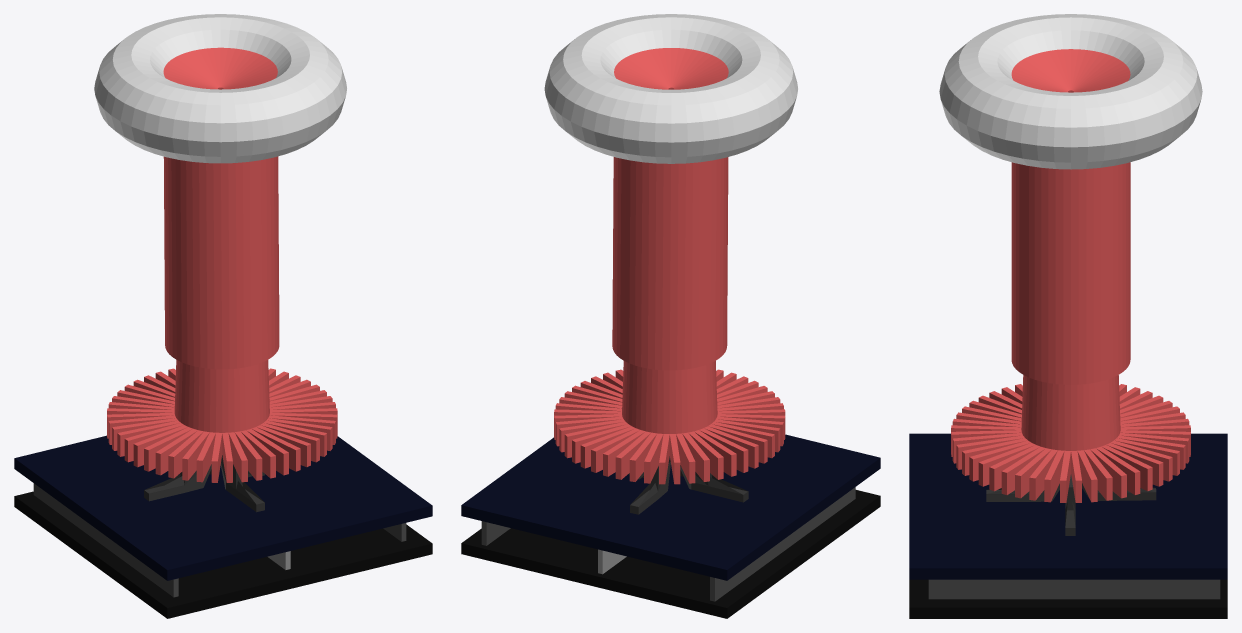
Rendered from Teslav5.fbx.
The picture shows the model from 3 angles, left to right: view 1: azimuth 30°, elevation 25°; view 2: azimuth 150°, elevation 25°; view 3: azimuth 270°, elevation 25°; orthographic projection. The views are drawn at different scales.
Visible parts, largest first — view 1: Torus, Plane, Plane.001, Cube.004, Cube.001, Cube.002; view 2: Torus, Plane, Plane.001, Cube.004, Cube.001, Cube; view 3: Torus, Plane, Plane.001, Cube.005, Cube.002, Cube.003, Cube.
Part boxes in pixels (x1,y1,x2,y2): Torus: (94,14,346,482); Plane: (14,435,432,580); Plane.001: (14,491,432,618); Cube.004: (33,483,178,597); Cube.001: (144,464,211,501); Cube.002: (220,455,264,512); Torus: (544,14,797,484); Plane: (461,434,880,580); Plane.001: (461,490,880,618); Cube.004: (710,487,855,601); Cube.001: (680,465,748,502); Cube: (630,456,670,514); Torus: (939,14,1202,502); Plane: (909,433,1227,579); Plane.001: (909,579,1227,618); Cube.005: (928,579,1220,599); Cube.002: (986,483,1059,501); Cube.003: (1065,474,1075,535); Cube: (1082,483,1156,500).
Size of the model in its own units: 445 by 762 by 445.
